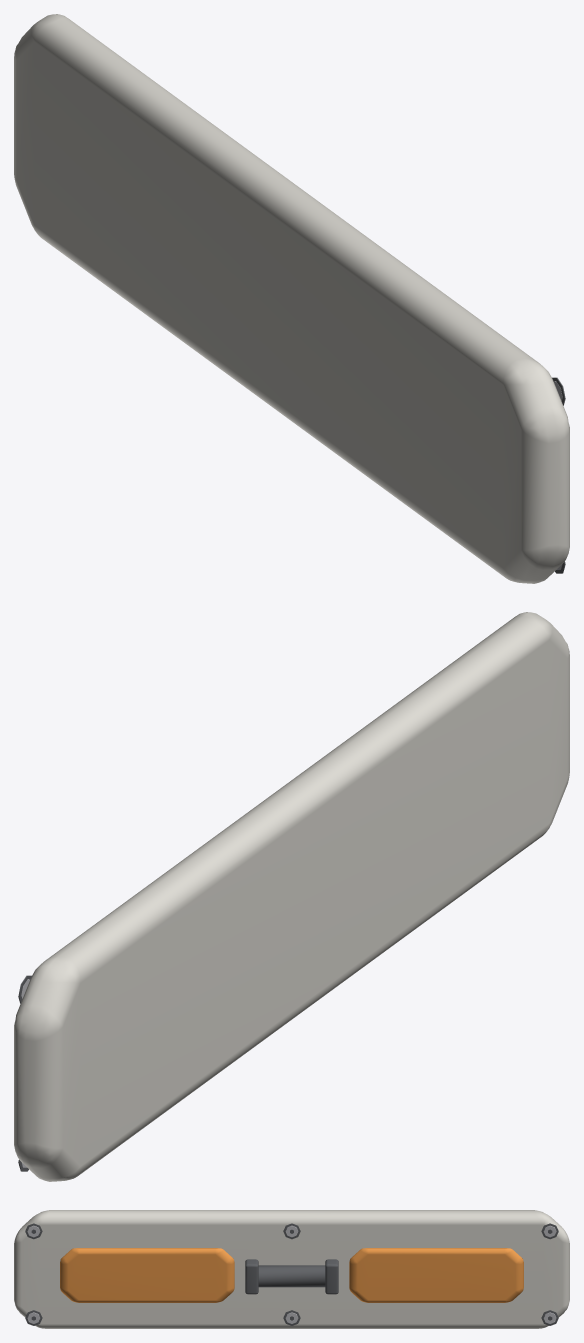
File: plate_wedge_rear_hdpe.glb
3 views of the same model, one above another, from view 1: azimuth 30°, elevation 25°; view 2: azimuth 150°, elevation 25°; view 3: azimuth 270°, elevation 25° (orthographic). The views are drawn at different scales.
Visible parts, largest first — view 1: body; view 2: body; view 3: body.
Part boxes in pixels (left/top/right/bottom): body: left=14, top=14, right=569, bottom=583; body: left=14, top=612, right=569, bottom=1181; body: left=14, top=1210, right=569, bottom=1328.
Bounding box in the file's own units: 0.036 × 0.1148 × 0.4997.
